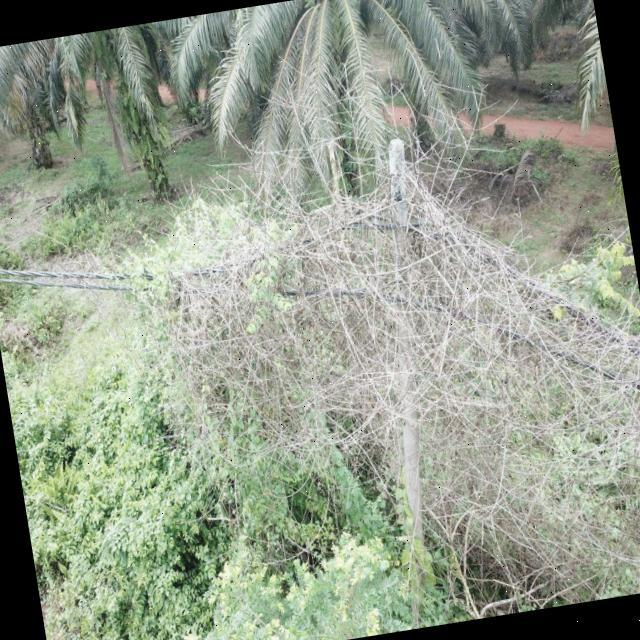critical vegetation: (87, 91, 640, 519)
